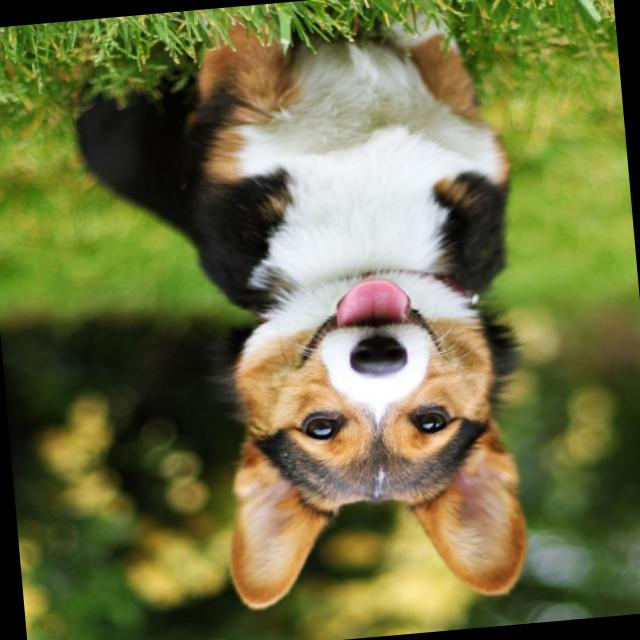dogs: (63, 0, 543, 632)
